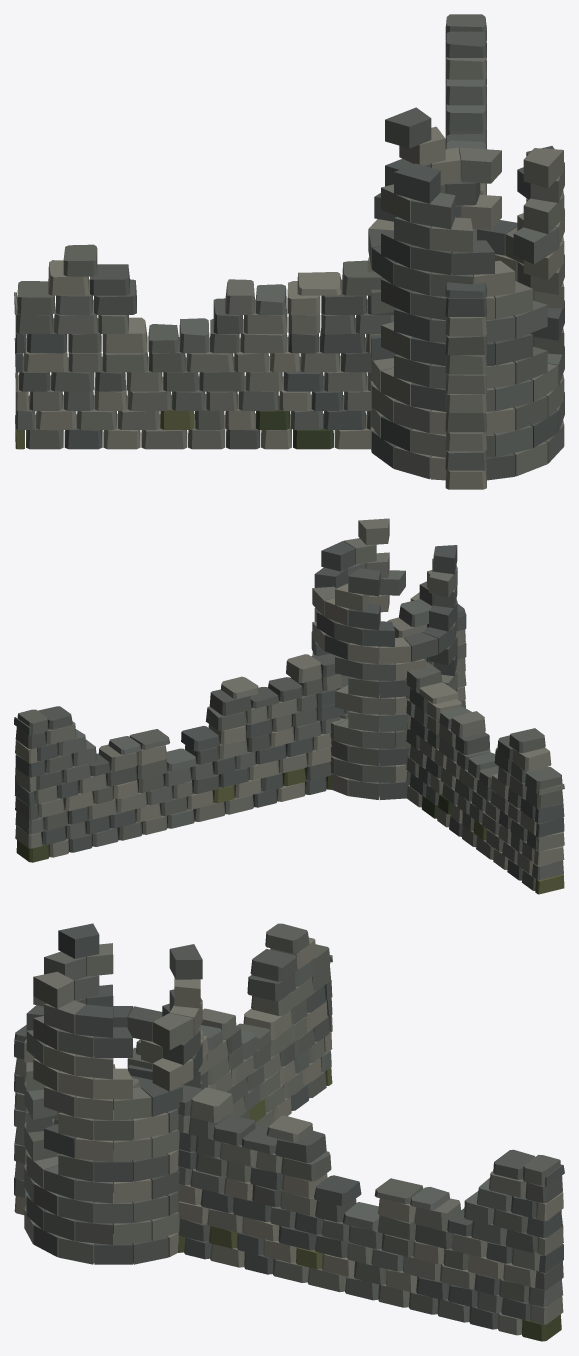
File: fallen-keep-corner.glb
3 renders of one model, top to bottom at view 1: azimuth 30°, elevation 25°; view 2: azimuth 150°, elevation 25°; view 3: azimuth 270°, elevation 25°, orthographic. The views are drawn at different scales.
Parts seen in each view (by area): view 1: FallenKeep_ShatteredCornerTower; view 2: FallenKeep_ShatteredCornerTower; view 3: FallenKeep_ShatteredCornerTower.
Boxes of the visible parts, left/top/right/bottom form: FallenKeep_ShatteredCornerTower: left=14, top=14, right=564, bottom=489; FallenKeep_ShatteredCornerTower: left=14, top=518, right=564, bottom=894; FallenKeep_ShatteredCornerTower: left=14, top=923, right=564, bottom=1341.
Size of the model in its own units: 15.25 by 7.12 by 13.27.
